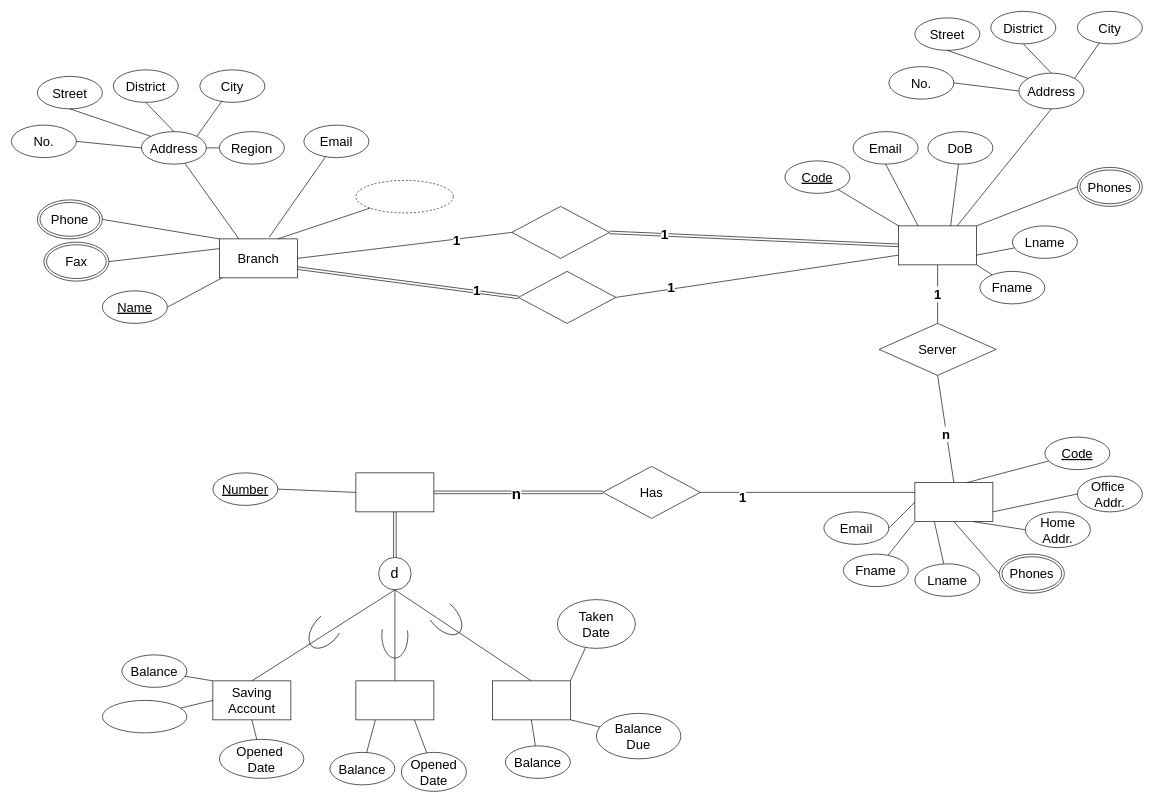
The diagram is 1154 pixels wide and 803 high, and some of its shapes have lost their labels. The centre of each missing label's shape, as x and y in pixels:
"Account" belongs at [394,492].
"Checking Account" belongs at [394,700].
"Customer" belongs at [953,502].
"Employee" belongs at [937,245].
"Interest Rate" belongs at [144,716].
"Loan" belongs at [531,700].
"Manage" belongs at [567,297].
"Num. Of Emp" belongs at [404,196].
"Work for" belongs at [560,232].
